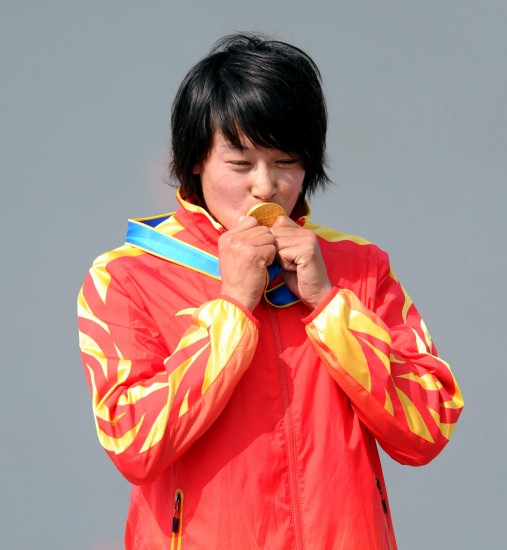face: (202, 99, 304, 242)
